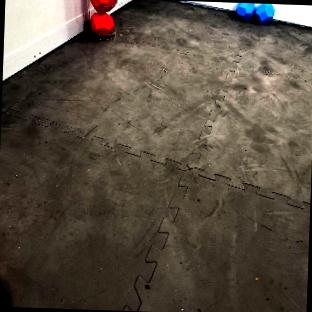V5_BLUE: (235, 3, 274, 23)
